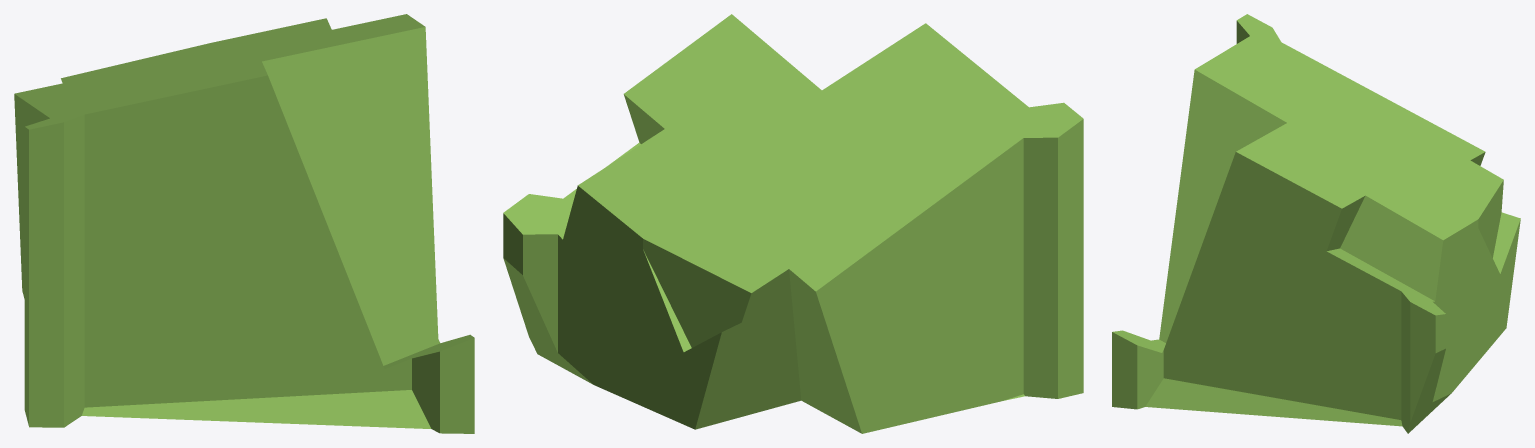
File: Debris11.obj
The picture shows the model from 3 angles, left to right: view 1: azimuth 30°, elevation 25°; view 2: azimuth 150°, elevation 25°; view 3: azimuth 270°, elevation 25°; orthographic projection. The views are drawn at different scales.
Visible parts, largest first — view 1: Debris11; view 2: Debris11; view 3: Debris11.
Boxes of the visible parts, bbox=[...] form: Debris11: bbox=[14, 14, 474, 433]; Debris11: bbox=[503, 14, 1083, 433]; Debris11: bbox=[1112, 14, 1520, 433].
Bounding box in the file's own units: 5.31 × 3.56 × 4.73.
